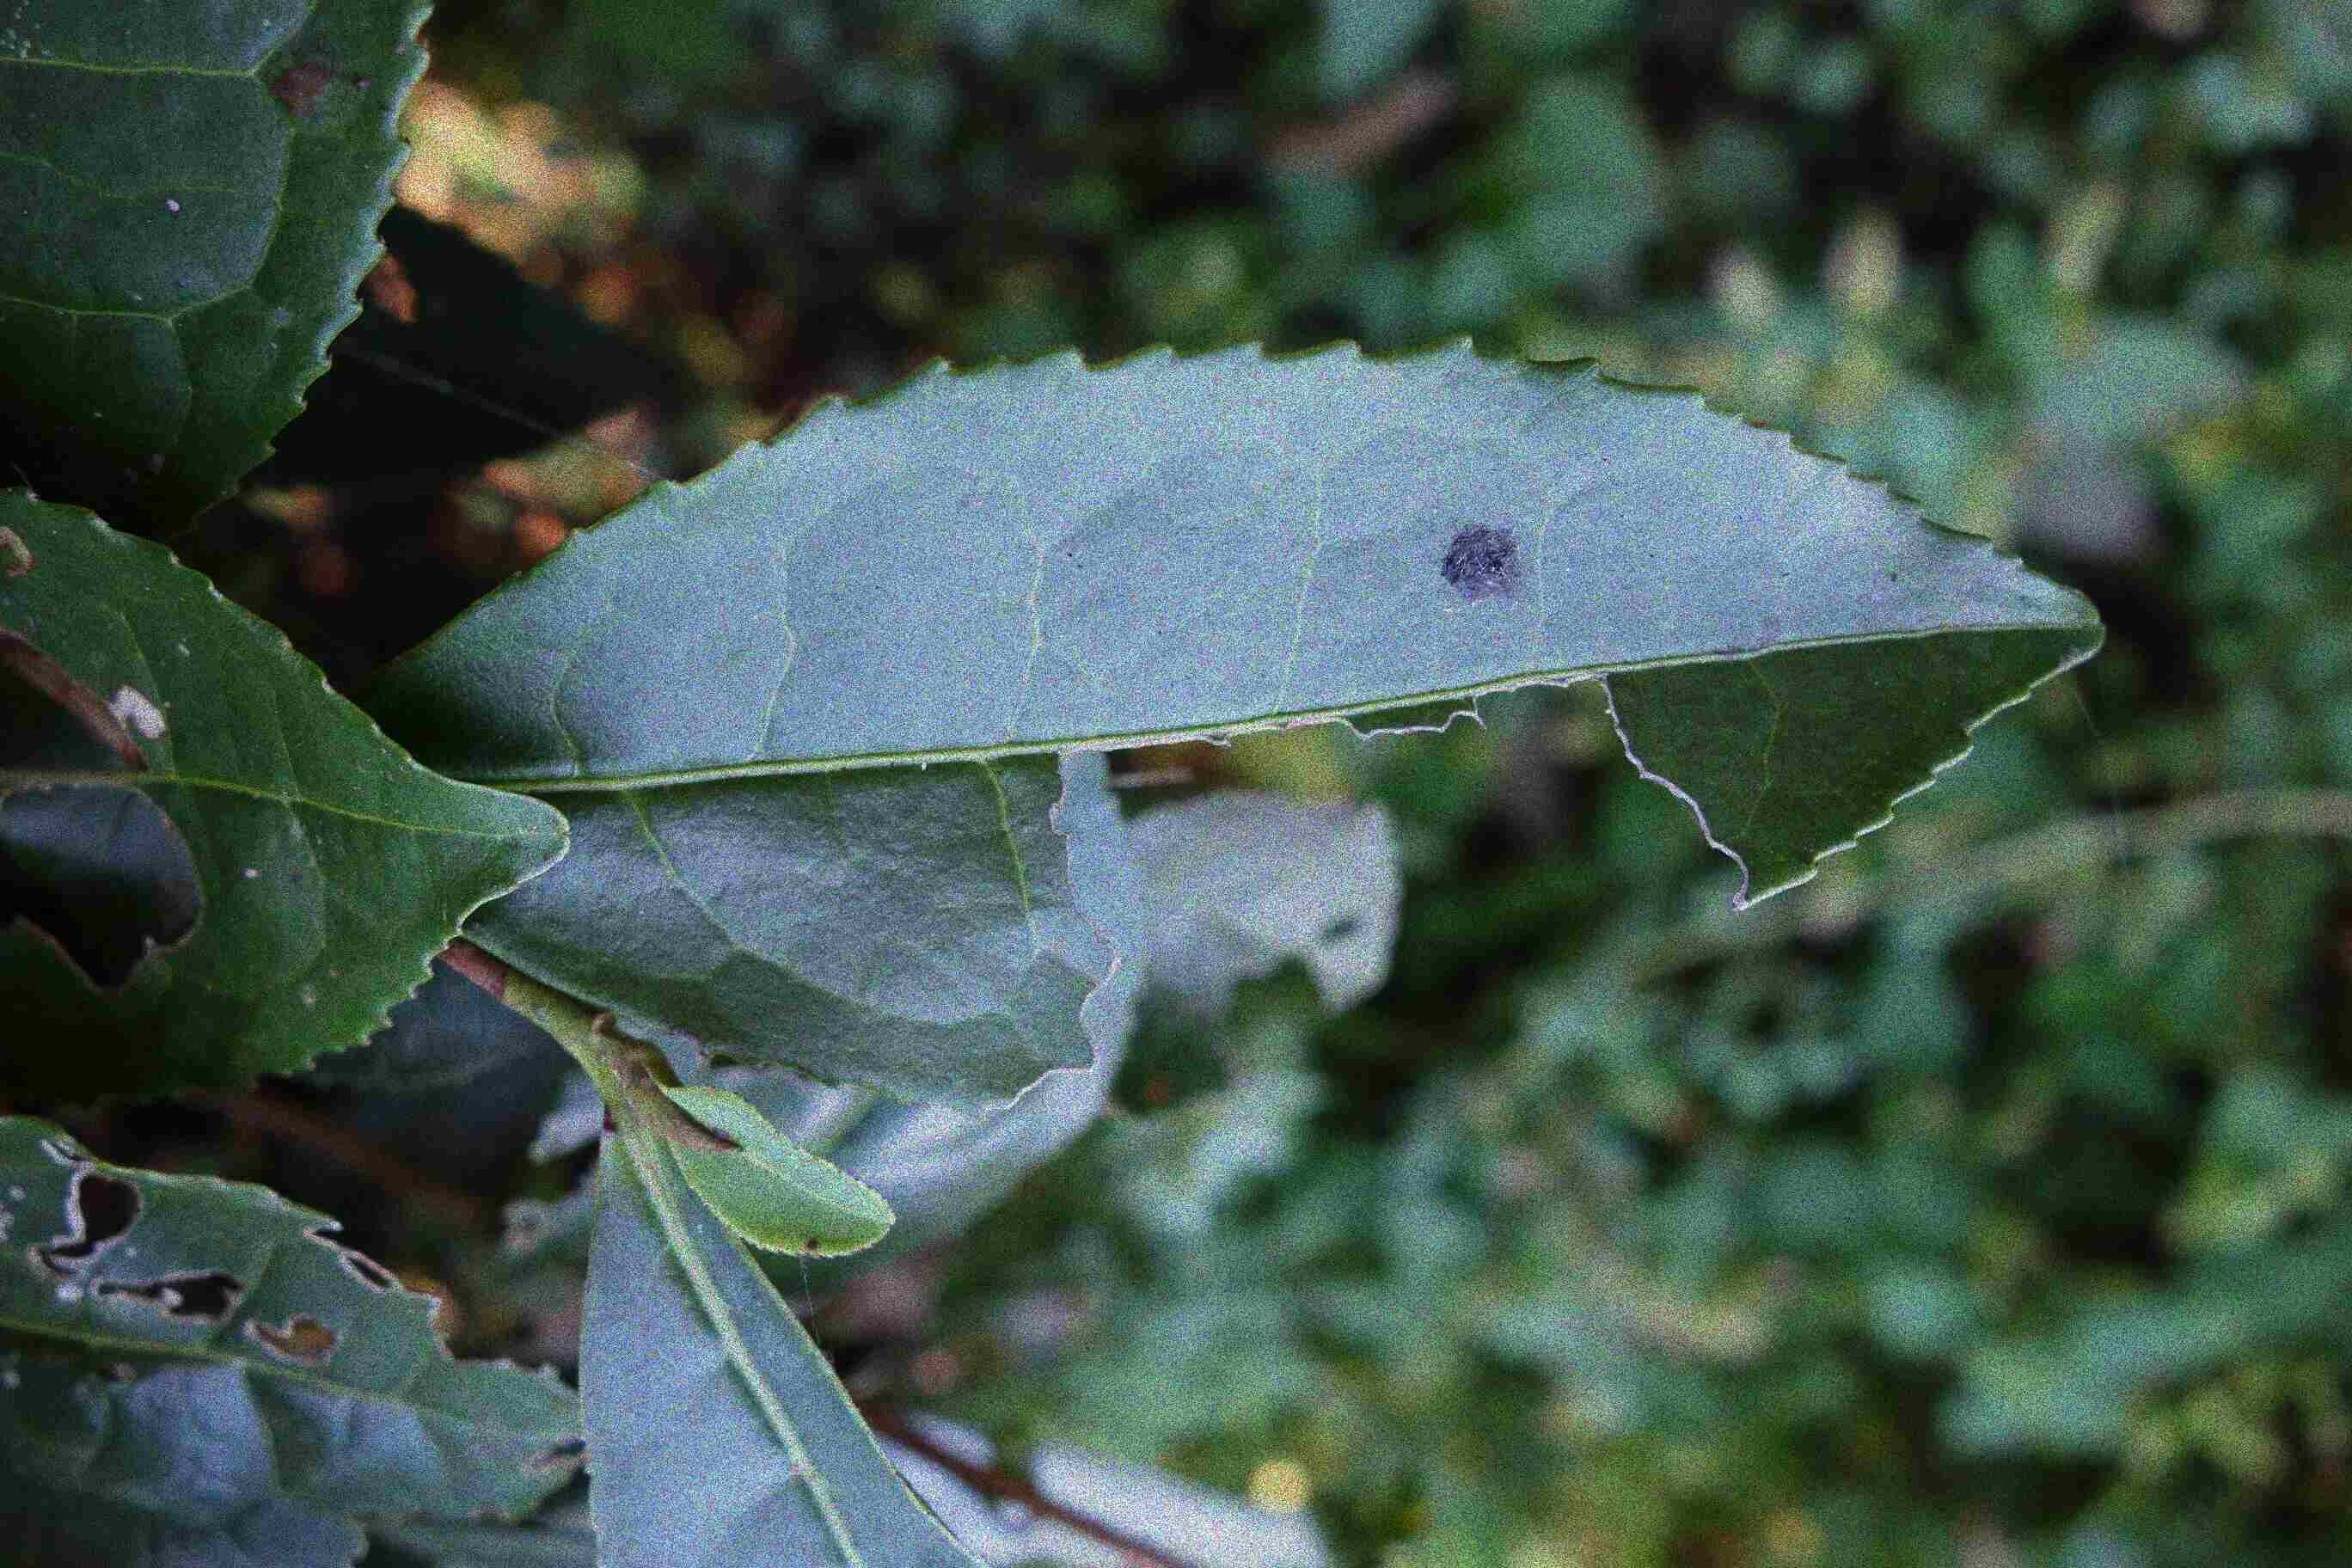chihuo_high: (427, 322, 2112, 1123), (0, 476, 570, 1092), (10, 1116, 579, 1568)
